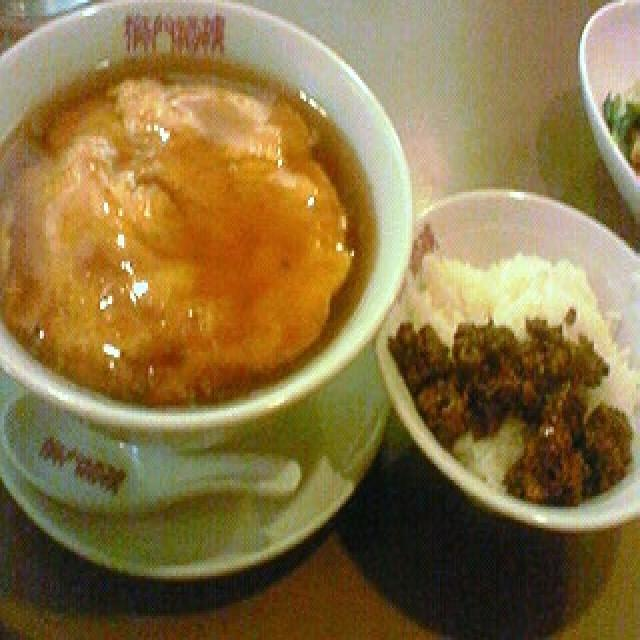面条主食: (0, 43, 388, 437)
